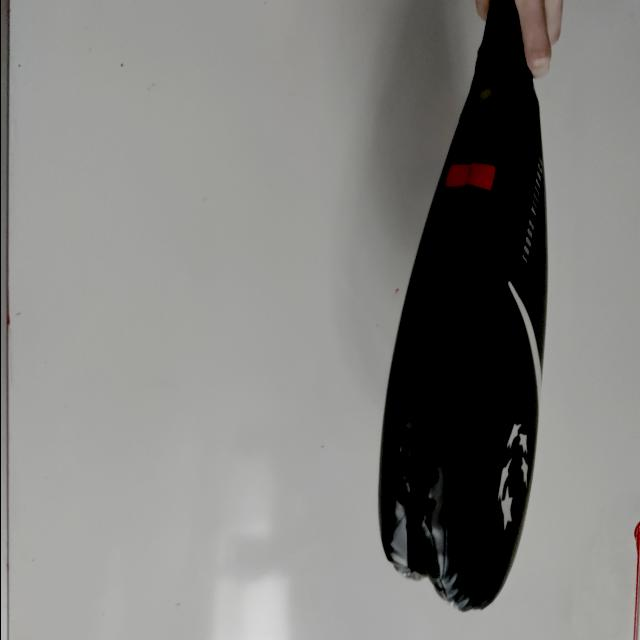paddle: (374, 0, 548, 622)
